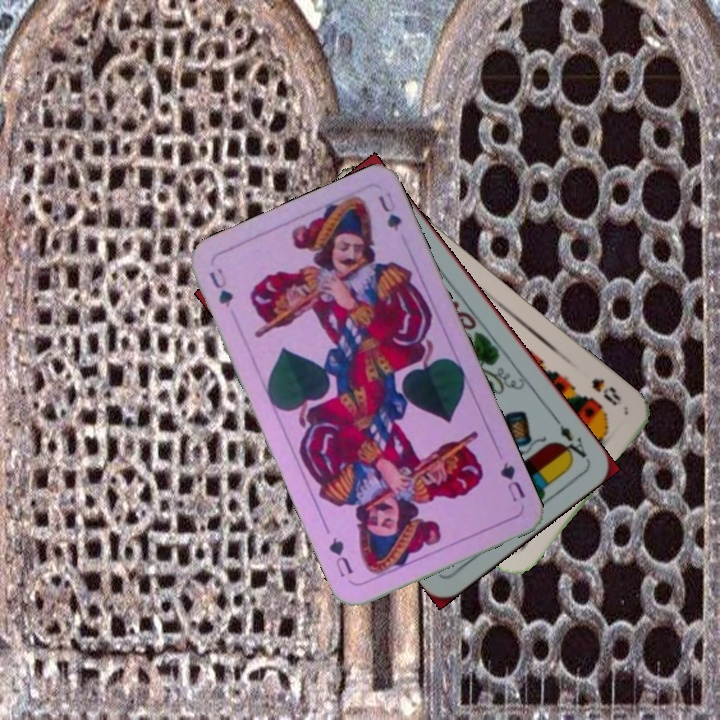EA: (549, 412, 590, 464)
GU: (496, 457, 528, 505), (205, 264, 236, 310)
S8: (587, 374, 625, 409)
